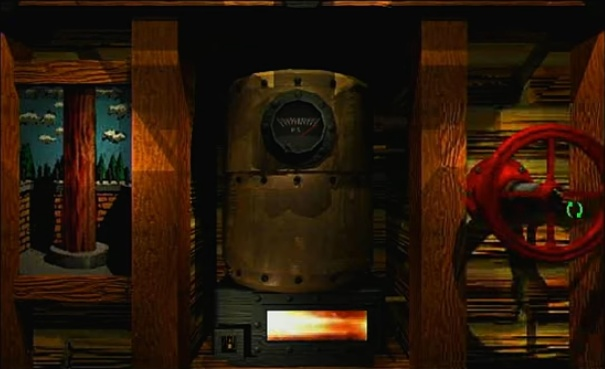Hold: (565, 200, 583, 221)
